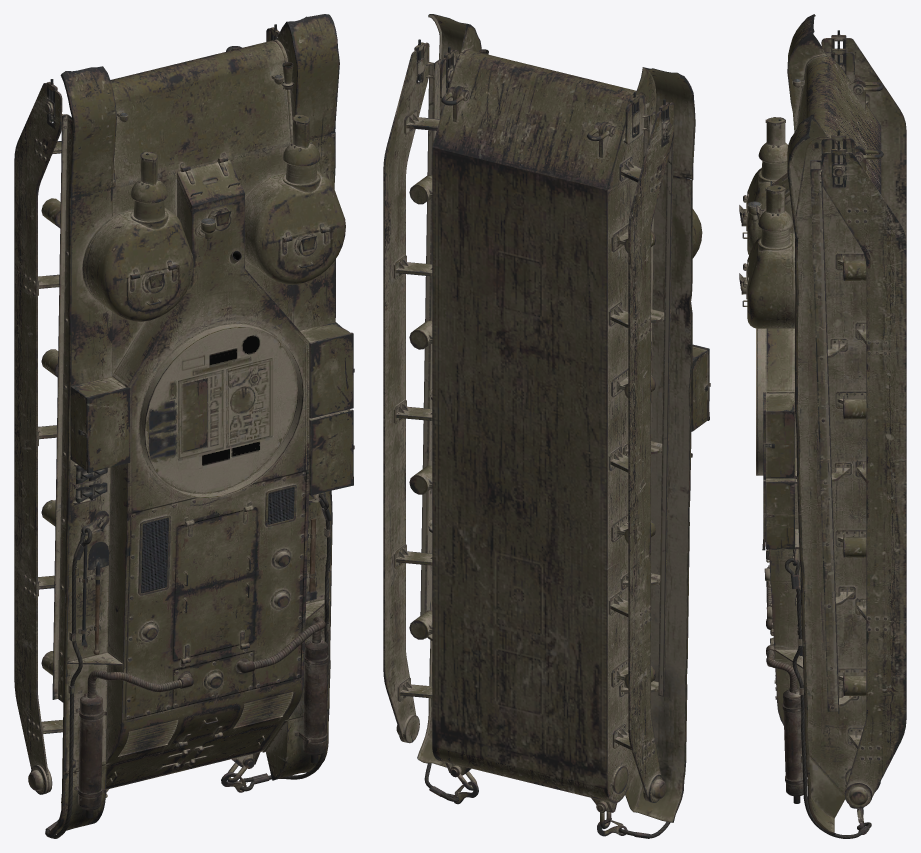
Rendered from Hull.glb.
3 renders of one model, left to right at view 1: azimuth 30°, elevation 25°; view 2: azimuth 150°, elevation 25°; view 3: azimuth 270°, elevation 25°, orthographic. The views are drawn at different scales.
Visible parts, largest first — view 1: set_0_group_0; view 2: set_0_group_0; view 3: set_0_group_0.
Boxes of the visible parts, bbox=[...] form: set_0_group_0: bbox=[14, 14, 354, 838]; set_0_group_0: bbox=[383, 14, 710, 838]; set_0_group_0: bbox=[739, 14, 906, 838].
Bounding box in the file's own units: 2.74 × 7.54 × 1.58.
Materials: 1 (1 with a texture image).
